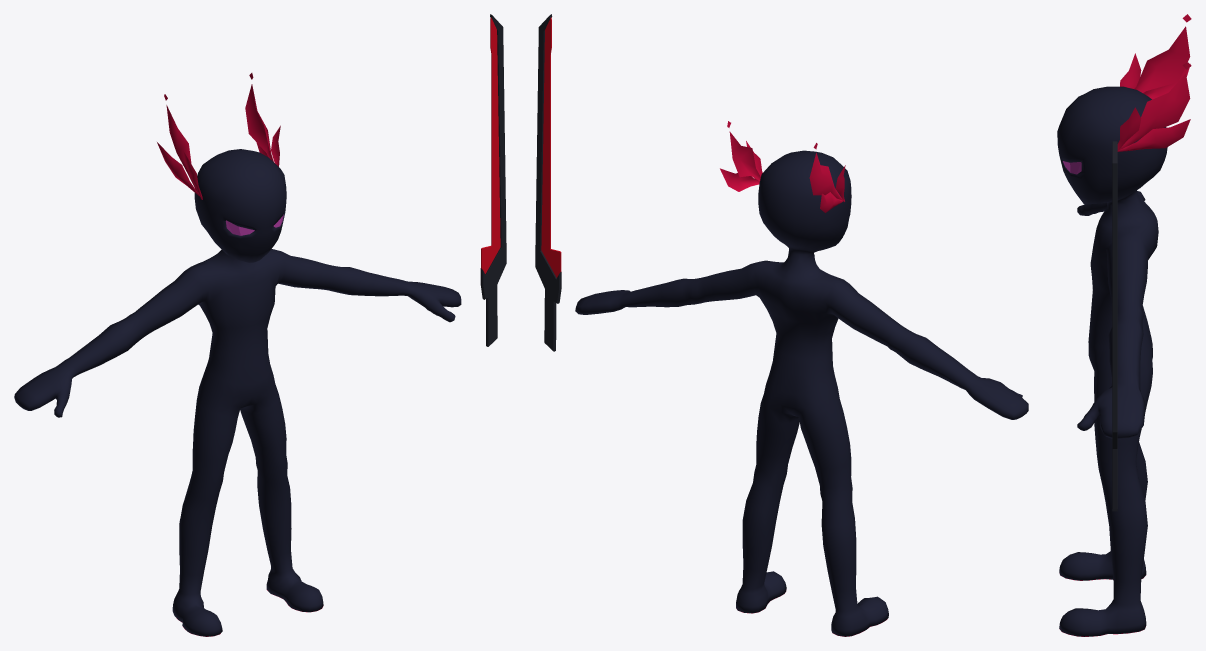
File: red+sword_3.FBX
The picture shows the model from 3 angles, left to right: view 1: azimuth 30°, elevation 25°; view 2: azimuth 150°, elevation 25°; view 3: azimuth 270°, elevation 25°; orthographic projection. The views are drawn at different scales.
Visible parts, largest first — view 1: RED, object_1, HeaddressObject002, object_2; view 2: RED, object_1, HeaddressObject002, object_2; view 3: RED, HeaddressObject002, object_1.
Part boxes in pixels (x1,y1,x2,y2): RED: (14, 149, 461, 636); object_1: (480, 14, 506, 346); HeaddressObject002: (157, 73, 280, 199); object_2: (481, 17, 500, 273); RED: (575, 150, 1028, 636); object_1: (535, 14, 561, 351); HeaddressObject002: (720, 121, 845, 212); object_2: (541, 17, 561, 277); RED: (1057, 86, 1167, 636); HeaddressObject002: (1117, 14, 1191, 151); object_1: (1112, 141, 1117, 511).
Bounding box in the file's own units: 2567 × 2680 × 547.
